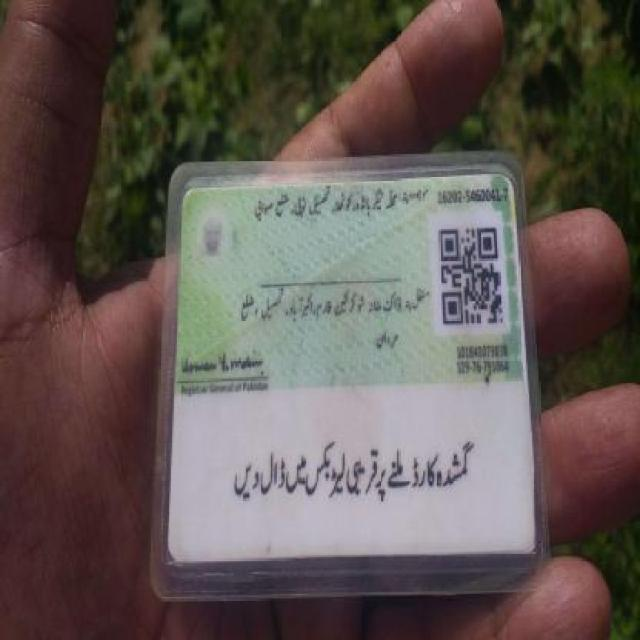Back: (166, 160, 539, 589)
